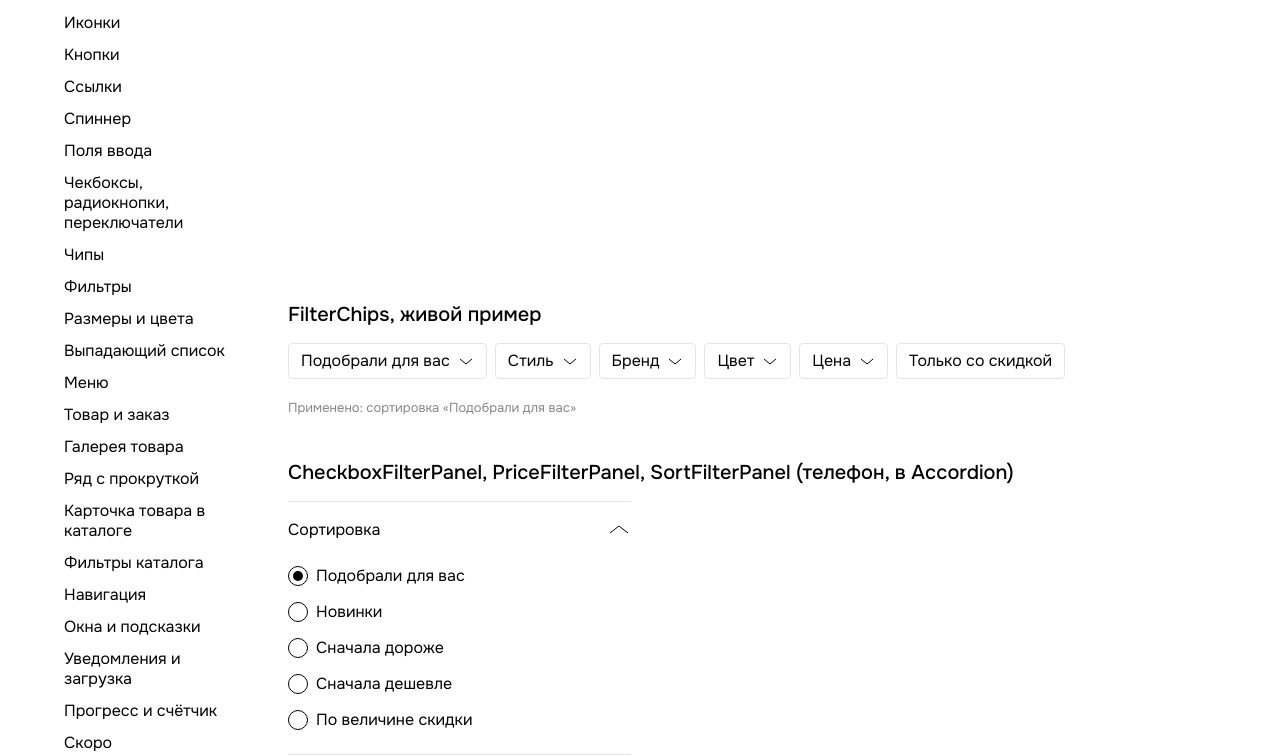
Test: filters demo › a non-default sort alone shows "Очистить фильтры"; it resets and focuses the first chip
(page scrolled)
Click the button "Подобрали для вас".
click(387, 361)  # box [289,344,486,378]
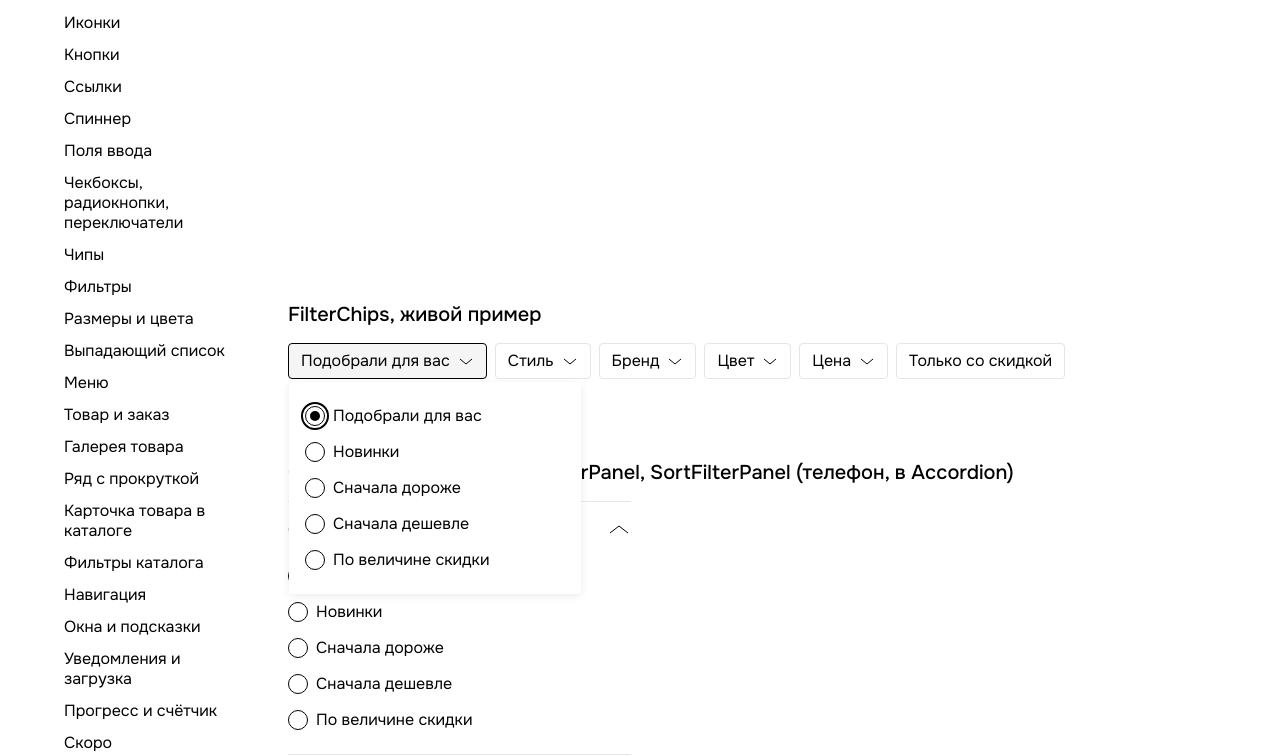
Click the 2nd radio button named "Новинки".
click(315, 452)  # box [305,442,325,462]
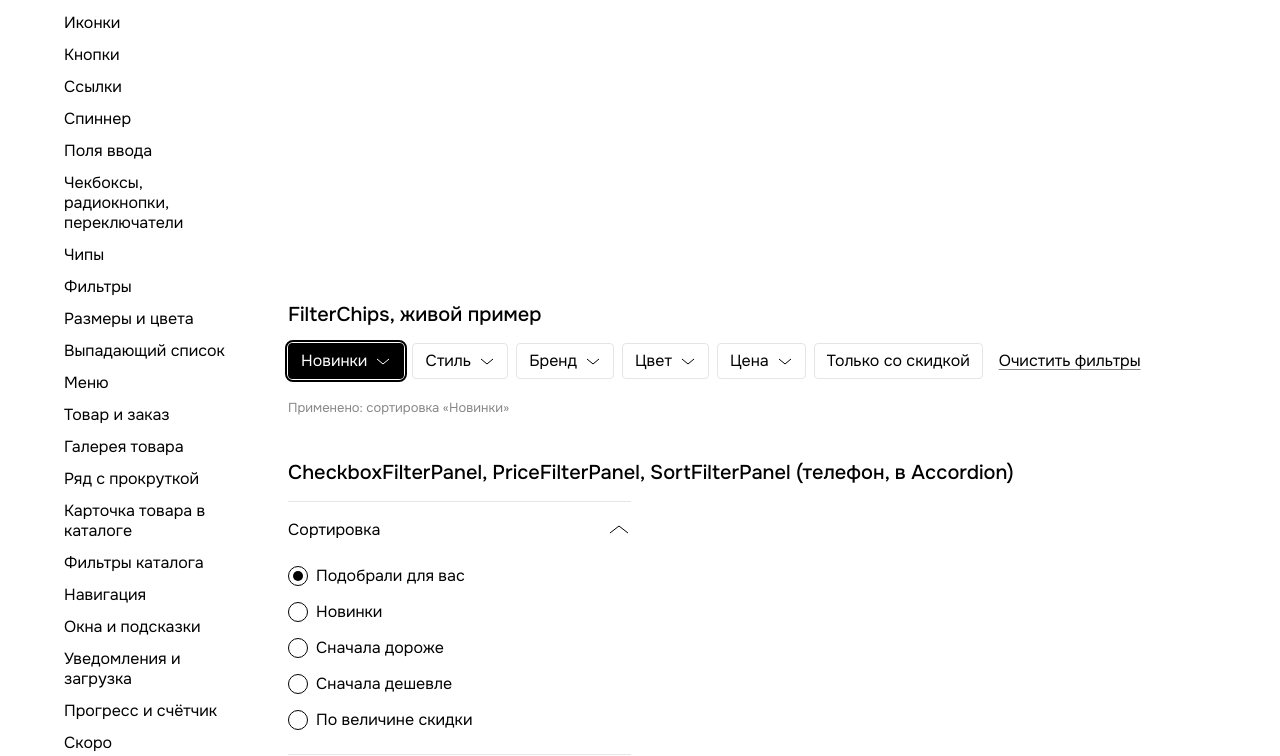
Click the button "Очистить фильтры".
click(1070, 361)  # box [991,343,1148,379]
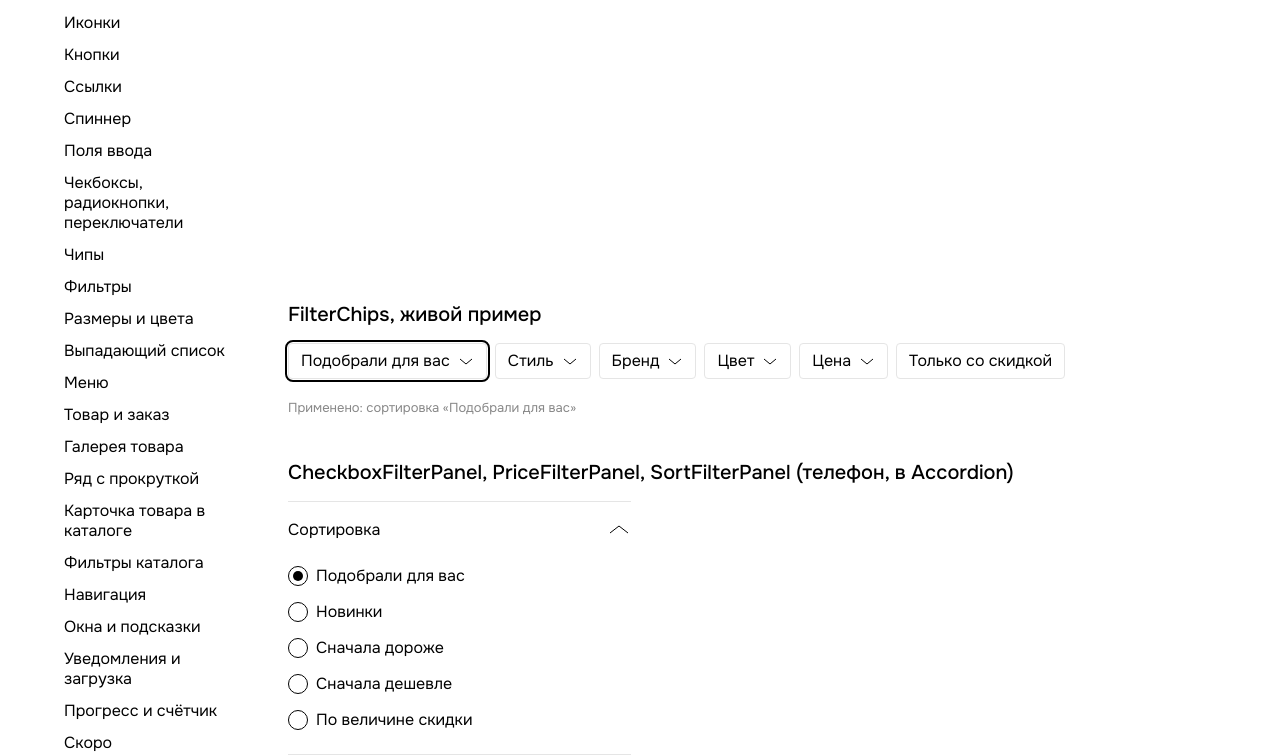
Expected: the text "Применено: сортировка «Подобрали для вас»" is shown, [288,400,576,416]
Expected: the button "Очистить фильтры" is gone
